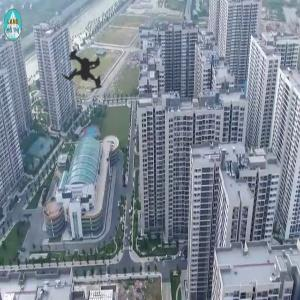drone: (19, 9, 149, 139)
